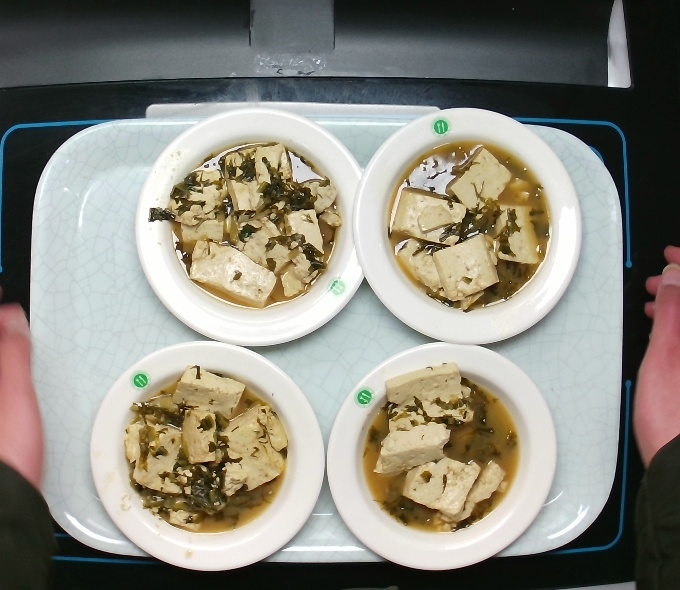wcq-XueCaiDouFu: (122, 361, 297, 533), (383, 138, 554, 311), (168, 139, 340, 310), (359, 371, 522, 532)
